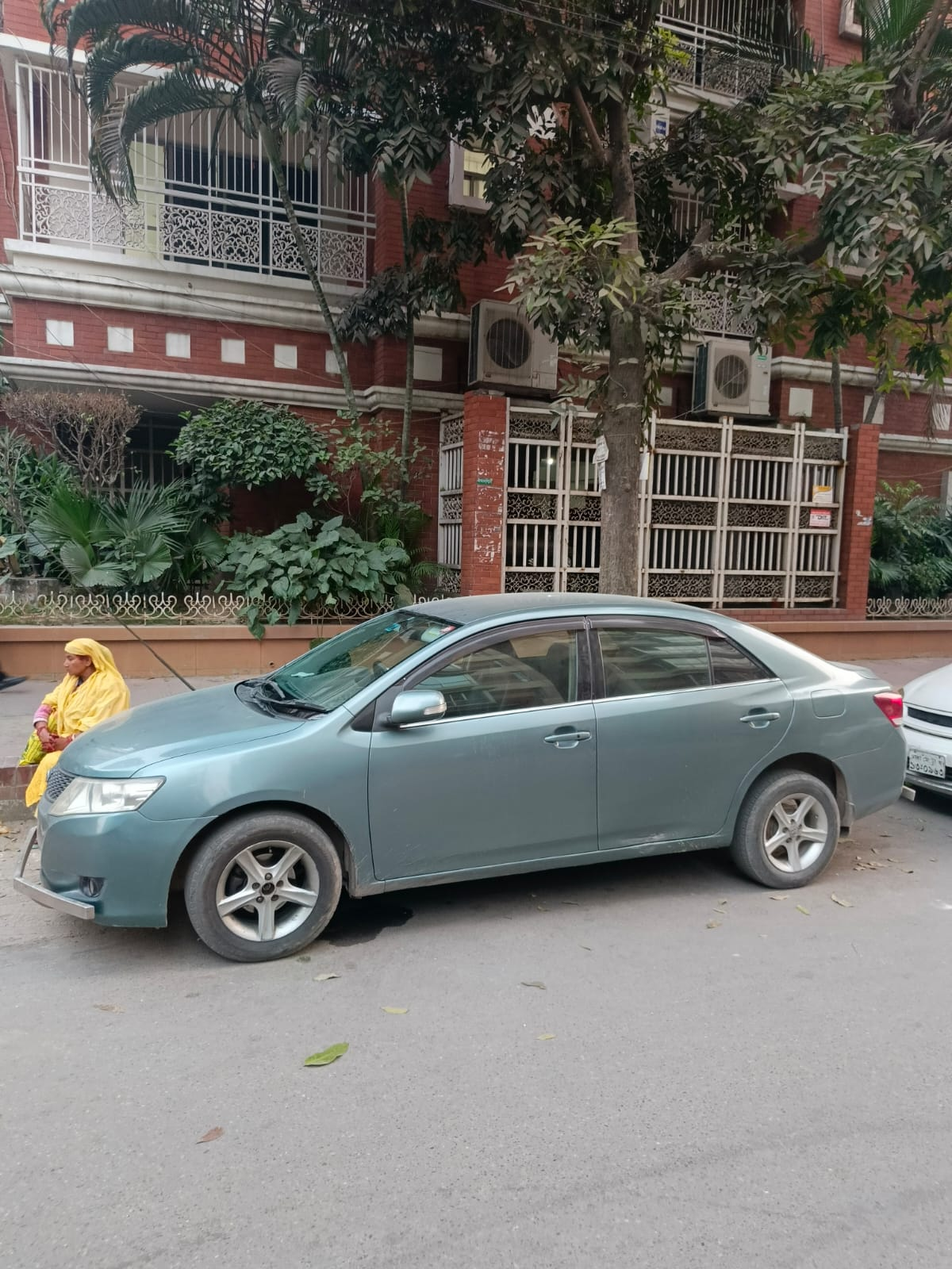private car: (36, 576, 918, 962)
